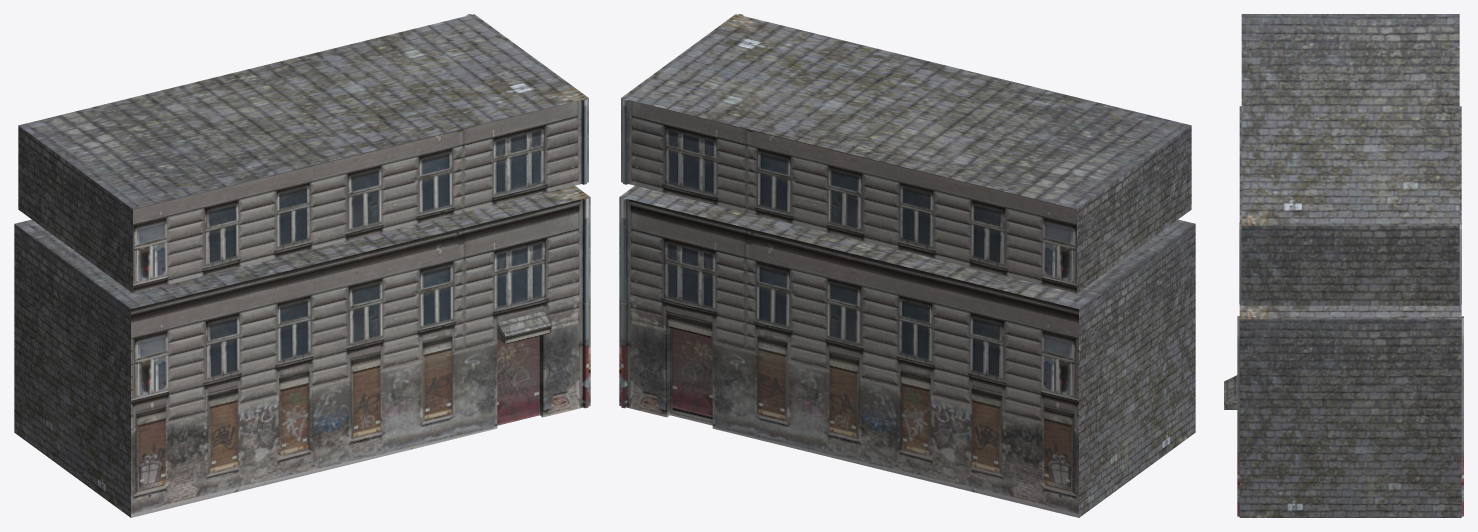
File: Building5.fbx
3 renders of one model, left to right at view 1: azimuth 30°, elevation 25°; view 2: azimuth 150°, elevation 25°; view 3: azimuth 270°, elevation 25°, orthographic. The views are drawn at different scales.
Parts seen in each view (by area): view 1: Building5_1, Building5_2; view 2: Building5_1, Building5_2; view 3: Building5_2, Building5_1.
Part boxes in pixels (left/top/right/bottom): Building5_1: left=14, top=185, right=590, bottom=517; Building5_2: left=18, top=14, right=588, bottom=293; Building5_1: left=619, top=185, right=1195, bottom=517; Building5_2: left=621, top=14, right=1191, bottom=293; Building5_2: left=1239, top=14, right=1461, bottom=305; Building5_1: left=1224, top=106, right=1463, bottom=517.
Size of the model in its own units: 1068 by 682 by 508.
